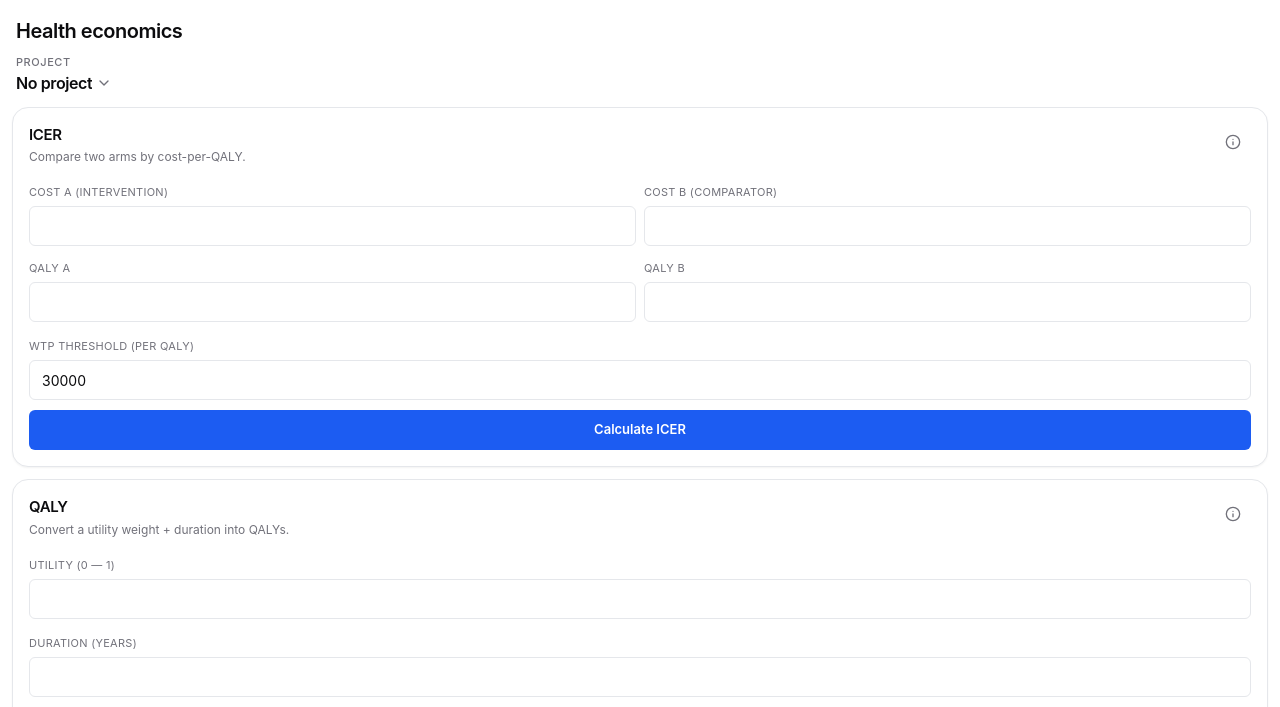
Test case: MobileEconomics › opens the QALY info sheet and loads the Learn entry
Click the button with test id "meconomics-qaly-info": [1233, 514] box [1215,496,1251,532]
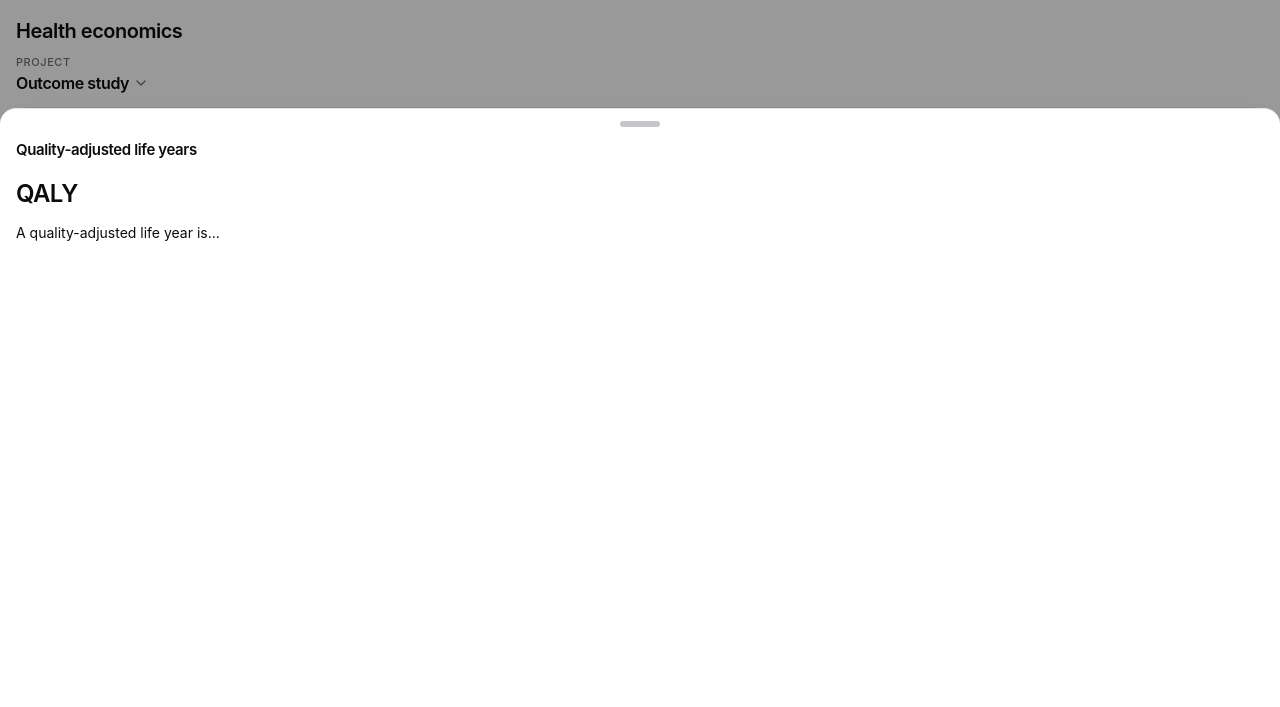
Expected: the element with test id "meconomics-info-body" is shown, [16,178,220,240]
